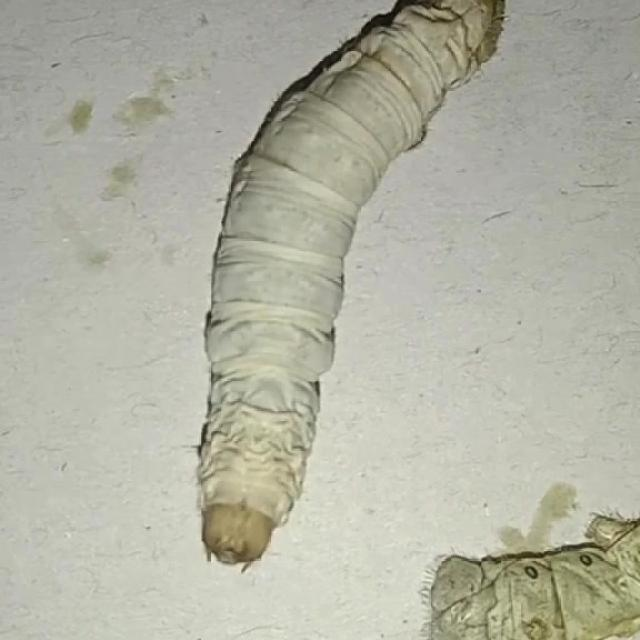Grasserie: (182, 8, 518, 566)
